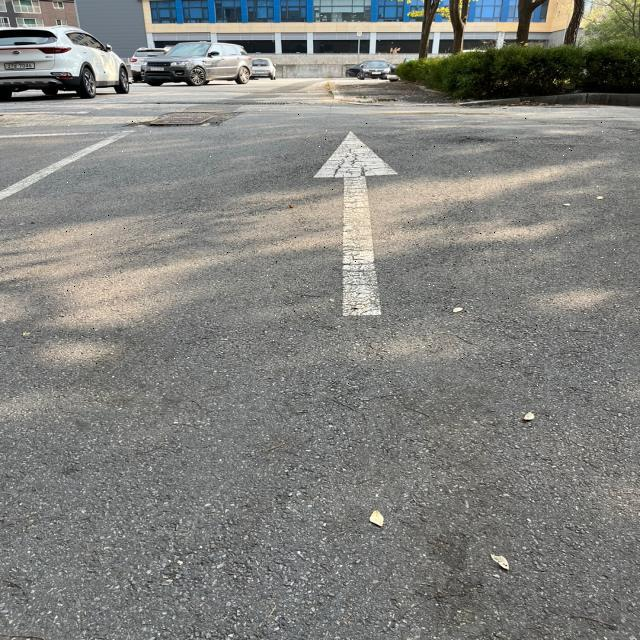forward: (62, 110, 631, 387)
